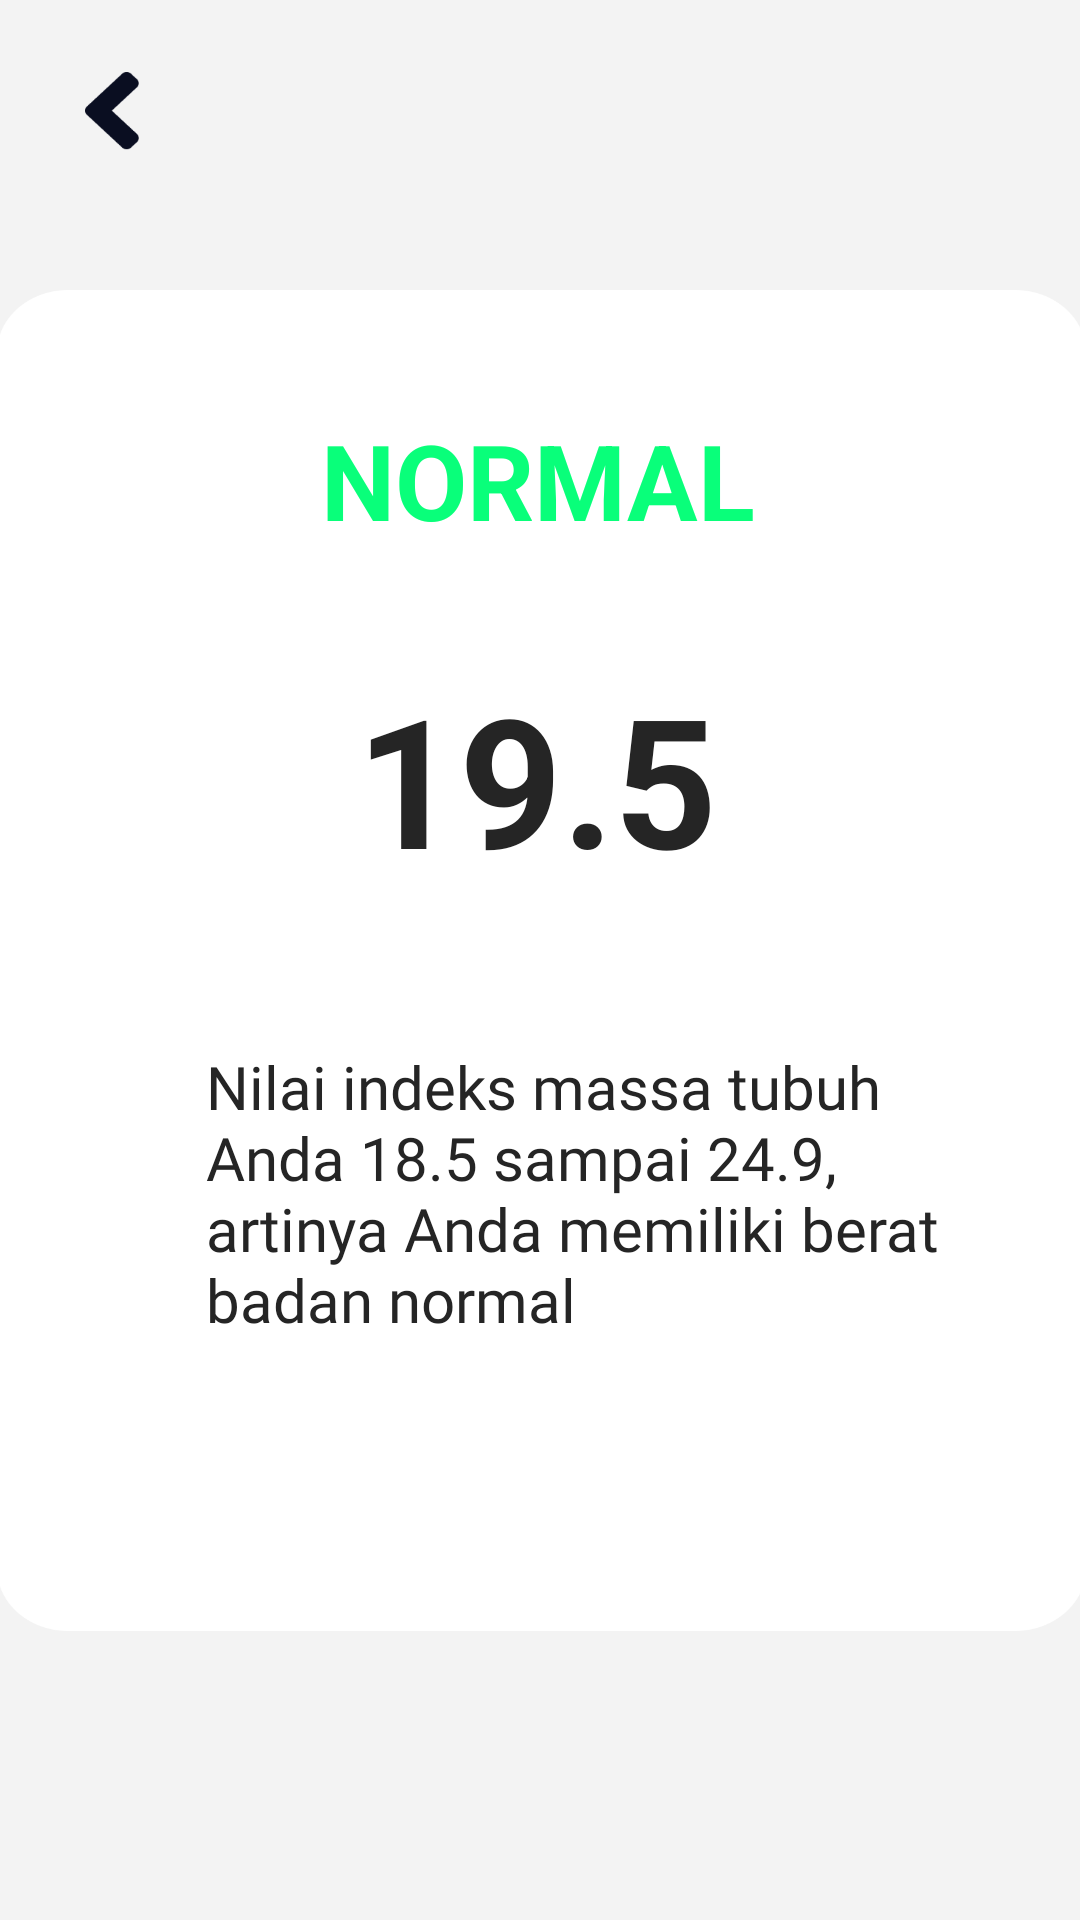

Screen size 1080w x 1920h. Icon name, then its box in pixels as (x1, y1, x2, y2):
back: (85, 72, 139, 150)
